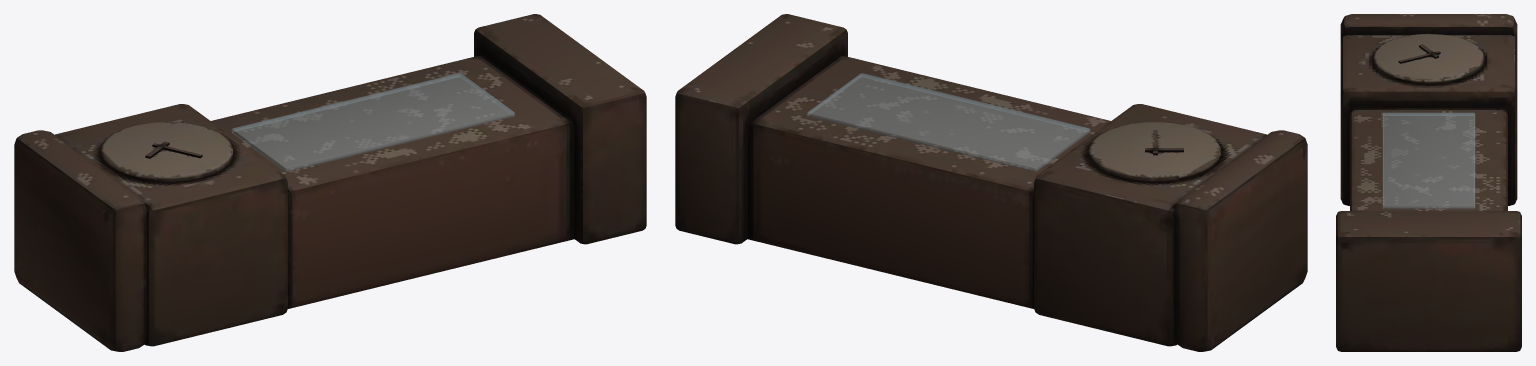
Rendered from GrandfatherClock.glb.
3 views of the same model, side by side, from view 1: azimuth 30°, elevation 25°; view 2: azimuth 150°, elevation 25°; view 3: azimuth 270°, elevation 25° (orthographic). The views are drawn at different scales.
Parts seen in each view (by area): view 1: Tex__SmoothPlastic__FFFFFF, Mat1__Glass__8A989E__T45; view 2: Tex__SmoothPlastic__FFFFFF, Mat1__Glass__8A989E__T45; view 3: Tex__SmoothPlastic__FFFFFF, Mat1__Glass__8A989E__T45.
Part boxes in pixels (box(x1,y1,x2,y2)): Tex__SmoothPlastic__FFFFFF: box(14, 14, 646, 351); Mat1__Glass__8A989E__T45: box(231, 73, 514, 171); Tex__SmoothPlastic__FFFFFF: box(675, 14, 1307, 351); Mat1__Glass__8A989E__T45: box(807, 73, 1090, 171); Tex__SmoothPlastic__FFFFFF: box(1336, 14, 1521, 351); Mat1__Glass__8A989E__T45: box(1382, 112, 1475, 209).
Size of the model in its own units: 1.55 by 0.42 by 0.56.
2 materials, 1 textured.
